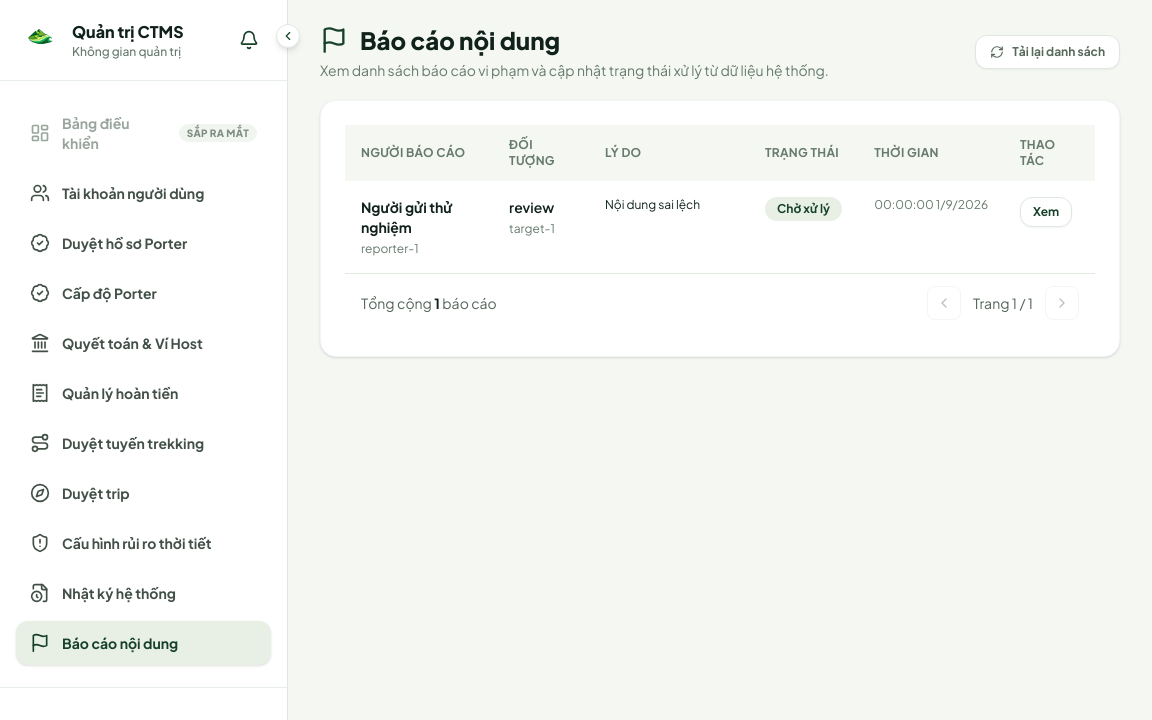
Test: Content Reports Admin UI › shows all authoritative detail fields and pending actions
Click the button "Xem" at (1046, 212), box [1020,197,1072,227]
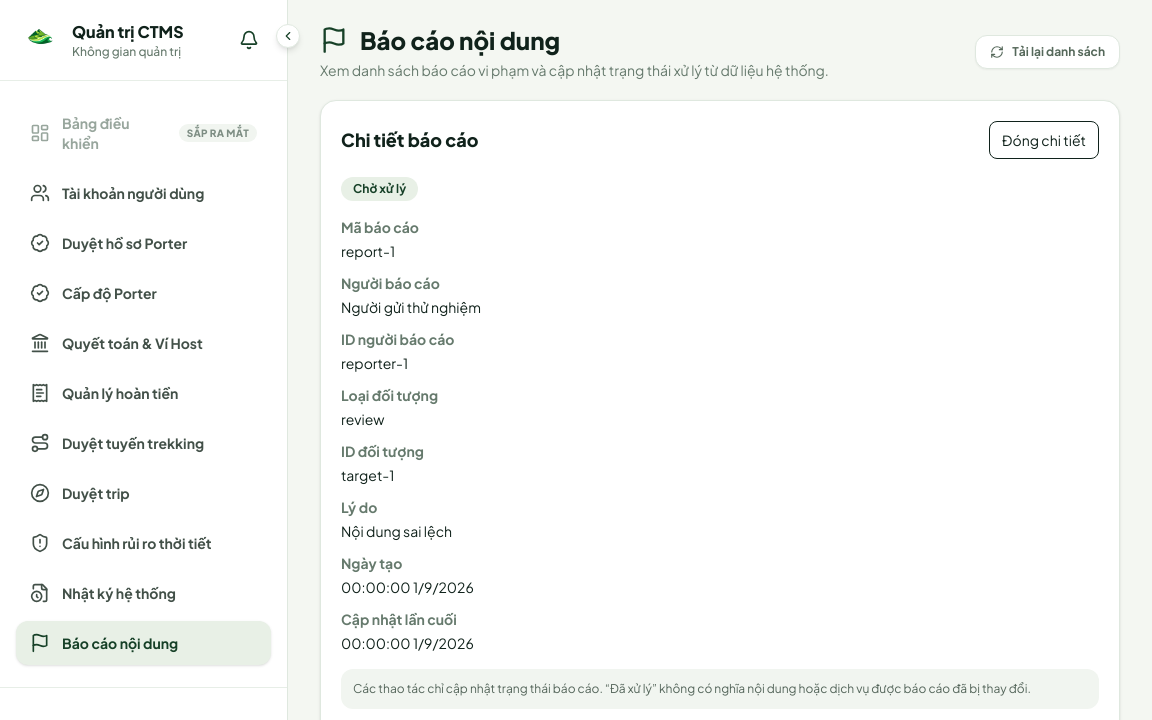
Result: the text "report-1" is shown at [341,242,395,260]
Result: the text "reporter-1" is shown at [341,354,408,372]
Result: the text "Người gửi thử nghiệm" is shown at [341,298,481,316]
